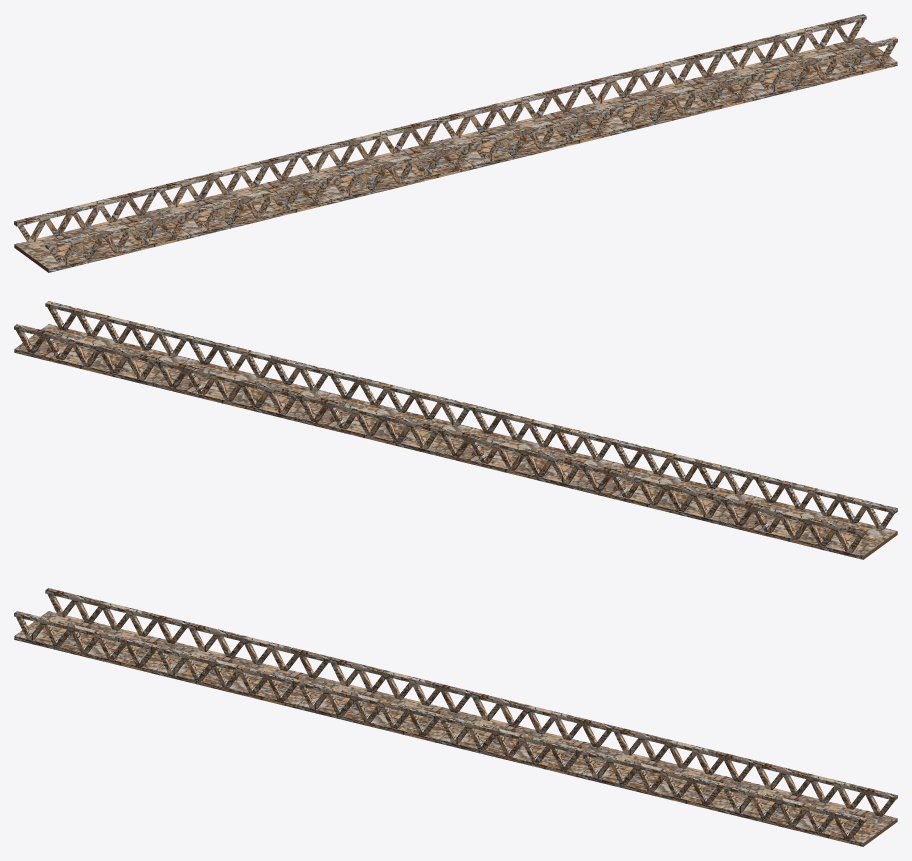
Rendered from hiep.fbx.
3 views of the same model, one above another, from view 1: azimuth 30°, elevation 25°; view 2: azimuth 150°, elevation 25°; view 3: azimuth 330°, elevation 25° (orthographic).
Parts seen in each view (by area): view 1: Cube; view 2: Cube; view 3: Cube.
Part boxes in pixels (x1,y1,x2,y2): Cube: [14, 14, 897, 272]; Cube: [14, 301, 897, 559]; Cube: [14, 588, 897, 846].
Size of the model in its own units: 8183 by 244 by 575.
1 material, 1 textured.
